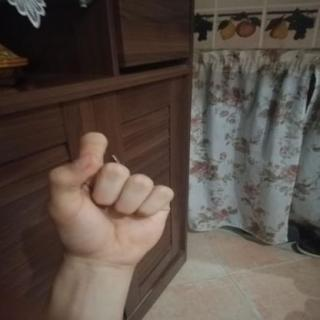FAA: (33, 124, 189, 275)
